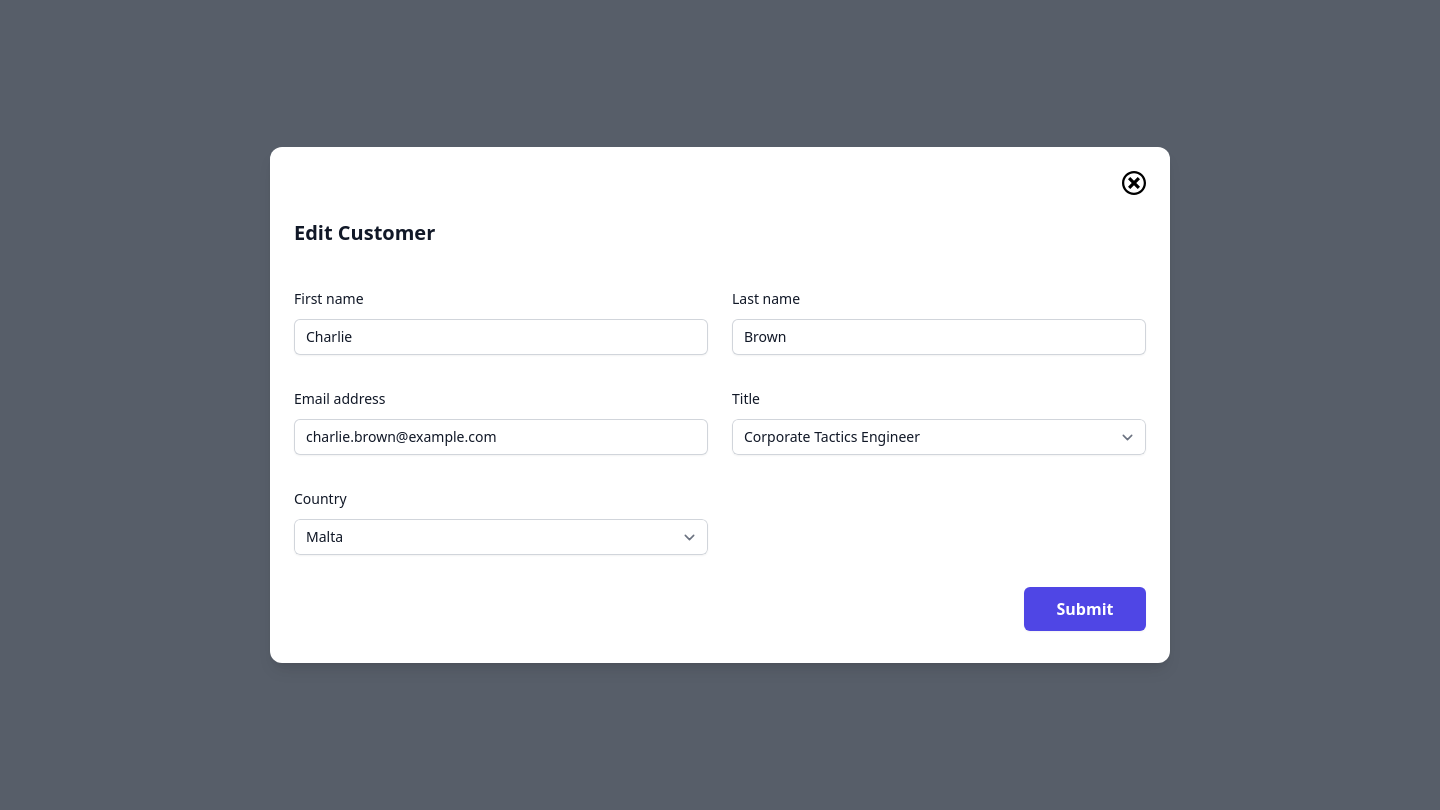
Test: Test FormModal component: Edit existing customer › displays an error message when form submission fails
Replace the text in the field labelled "First name" with "Charliez" at (501, 337), box [294,319,708,355]
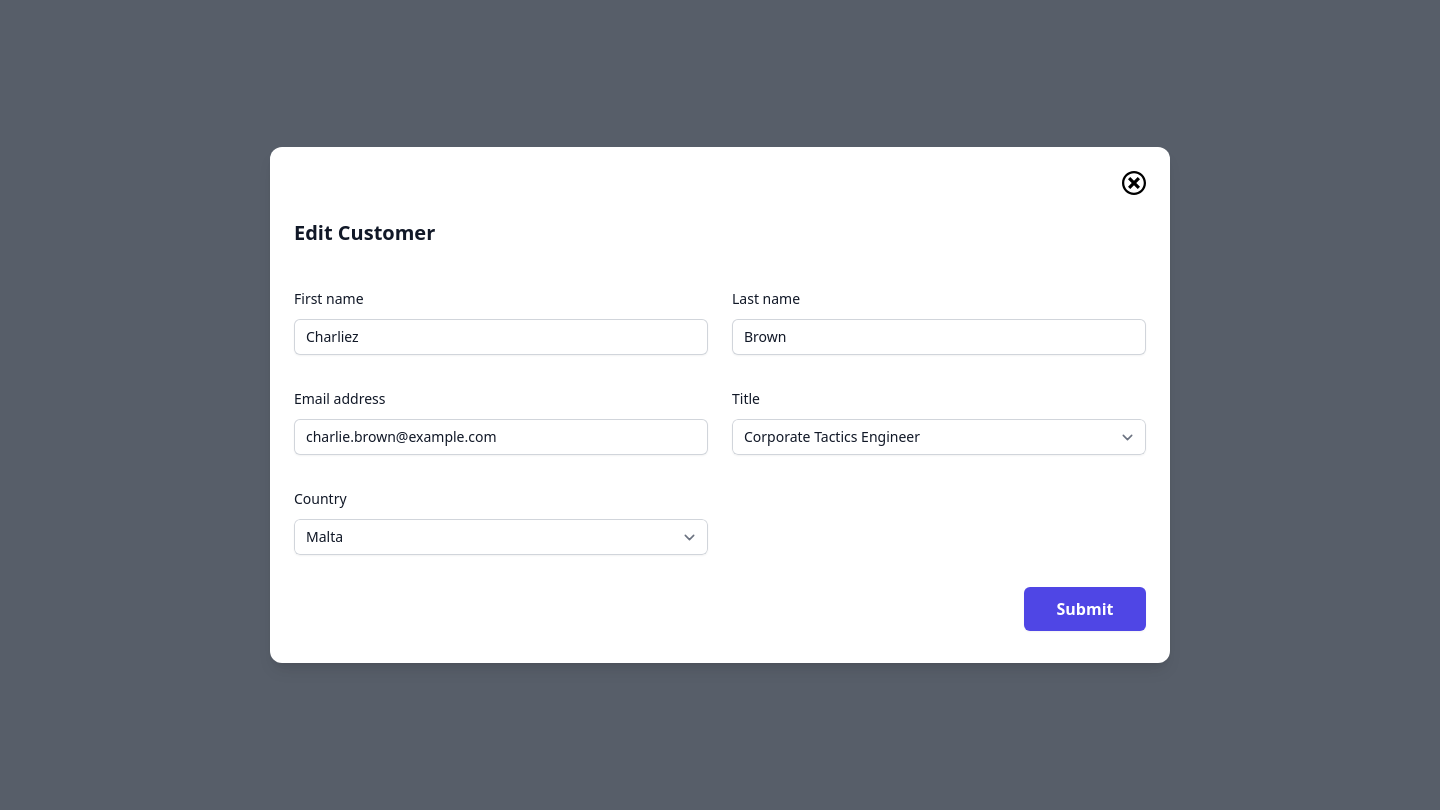
Replace the text in the field labelled "Last name" with "Brownz" at (939, 337), box [732,319,1146,355]
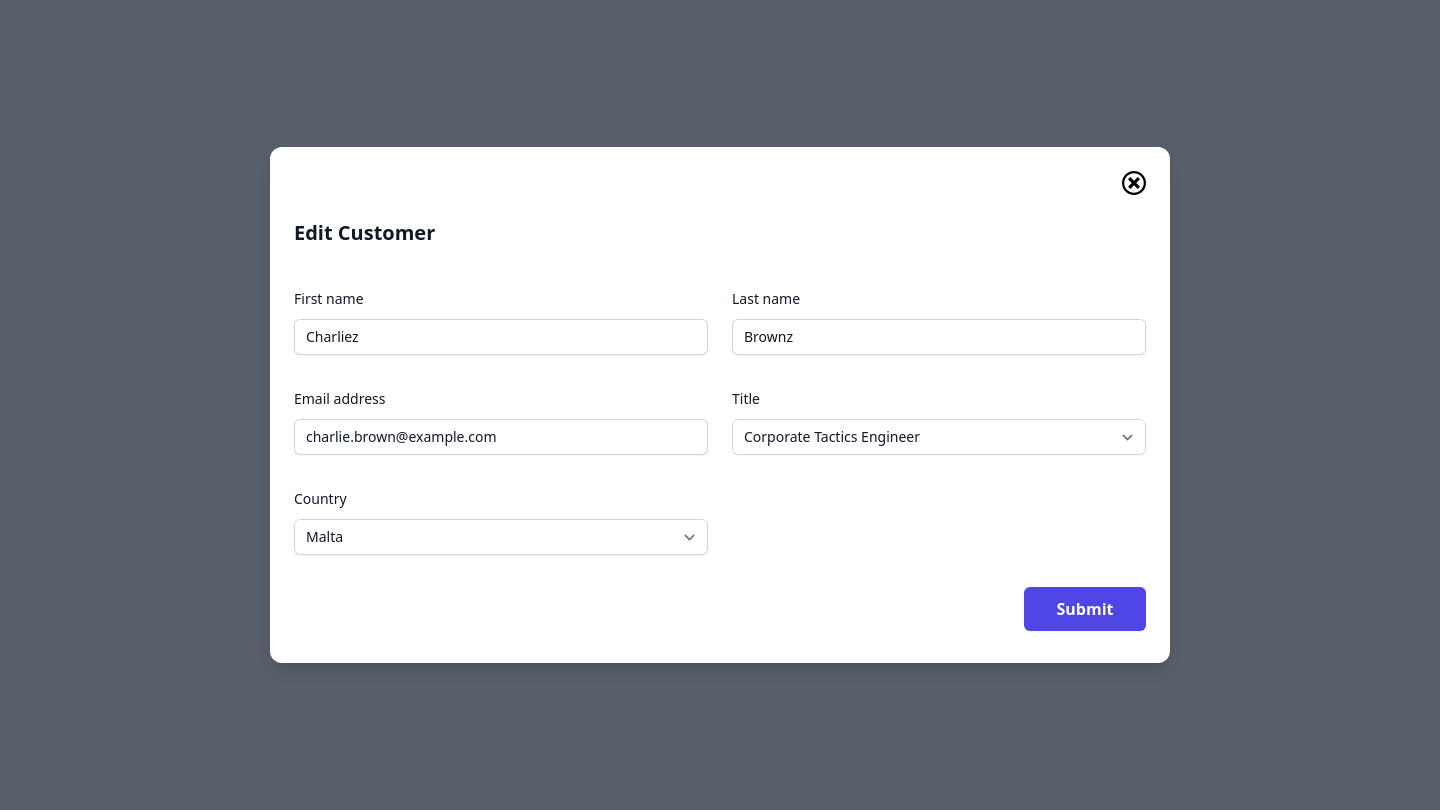
Replace the text in the field labelled "Email address" with "charliez.brownz@example.com" at (501, 437), box [294,419,708,455]
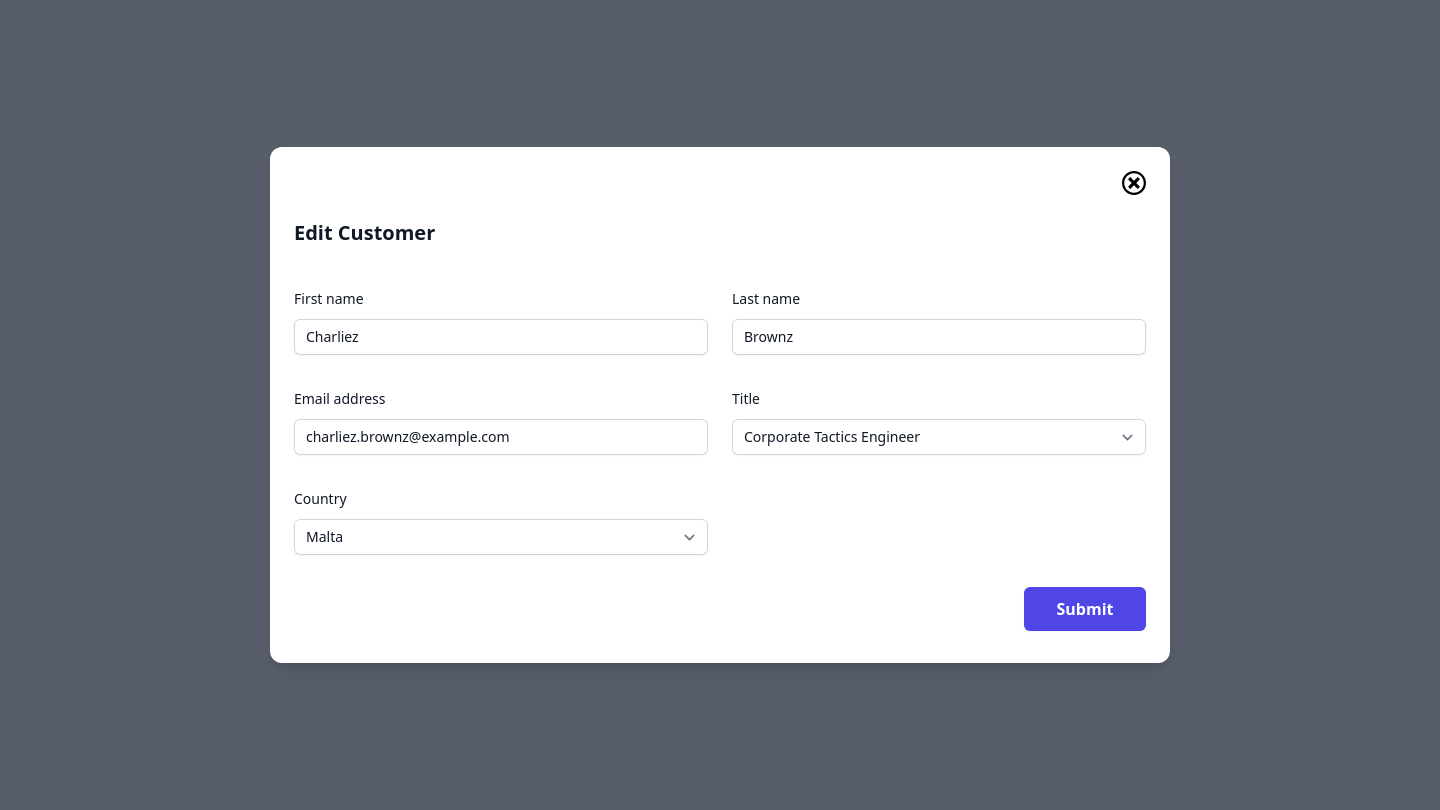
Select "Corporate Tactics Engineer" in the dropdown labelled "Title" at (939, 437), box [732,419,1146,455]
Select "Malta" in the dropdown labelled "Country" at (501, 537), box [294,519,708,555]
Click the button "Submit".
click(1085, 609)  # box [1024,587,1146,631]
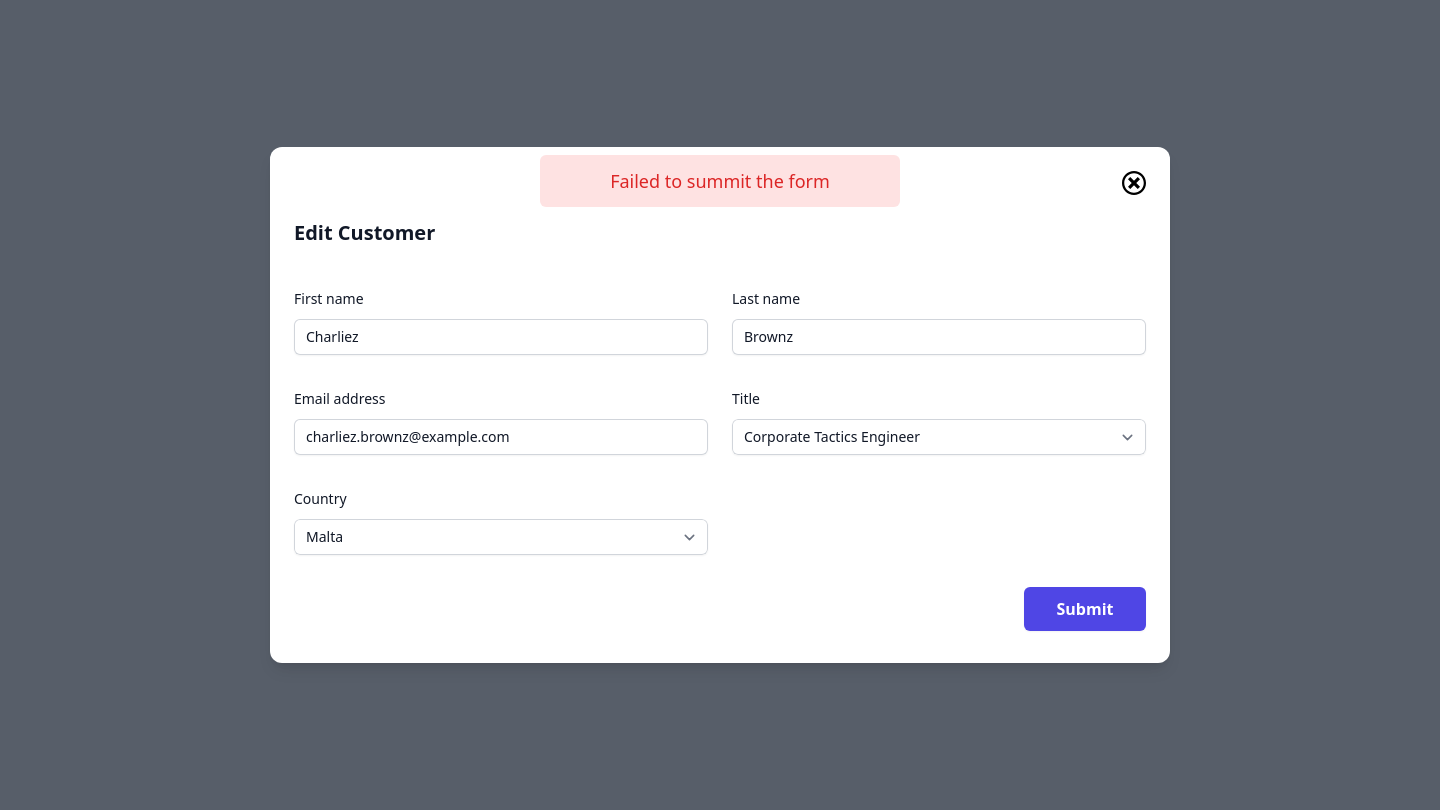
Expected: the text "Failed to summit the form" is shown, [540,155,900,207]
